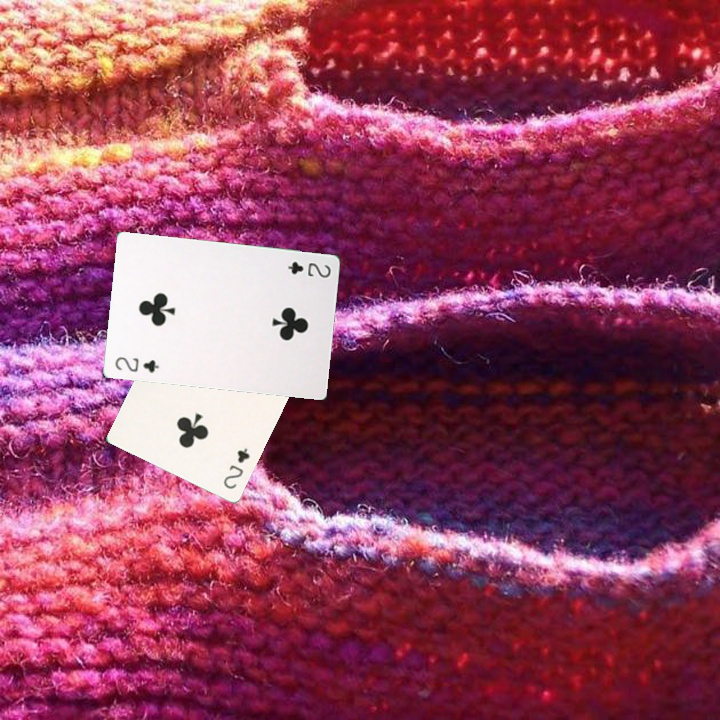2c: (219, 444, 252, 492), (111, 353, 162, 375), (283, 258, 333, 280)
